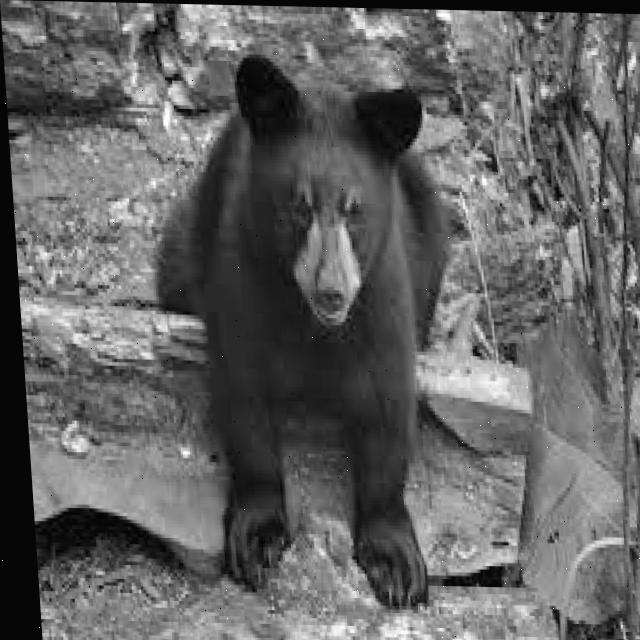Bear: (141, 46, 474, 612)
